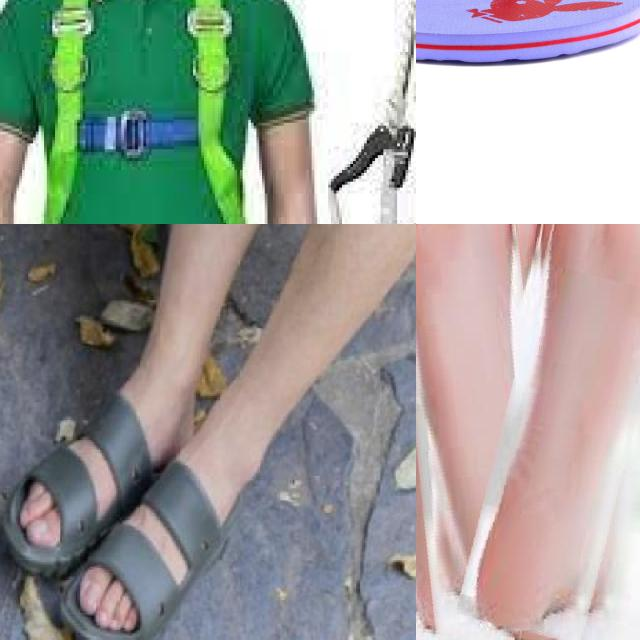Barefoots: (467, 224, 640, 640), (416, 224, 545, 602)
Harness: (37, 0, 246, 224)
Sandals: (44, 447, 251, 640), (0, 321, 151, 581), (416, 0, 640, 66)
